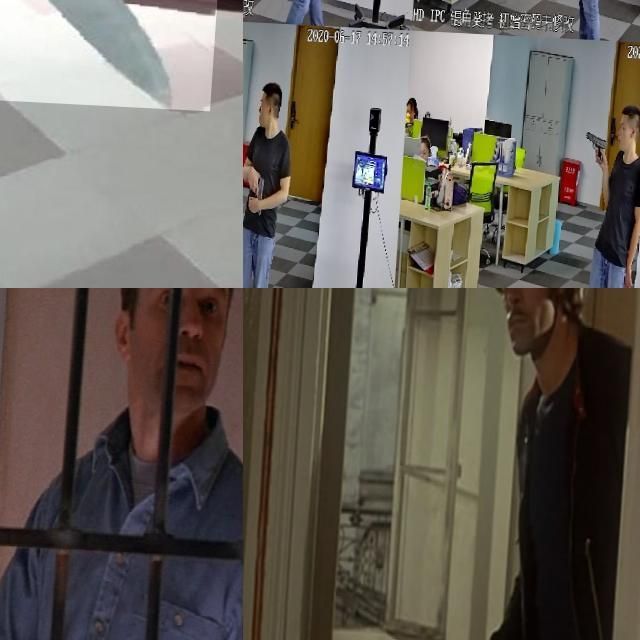-: (0, 0, 225, 106)
gun-knife-thesis - v11 Yolov5 augmented: (0, 384, 52, 565), (588, 122, 612, 162), (254, 168, 270, 215), (322, 0, 342, 22), (583, 0, 600, 25)
